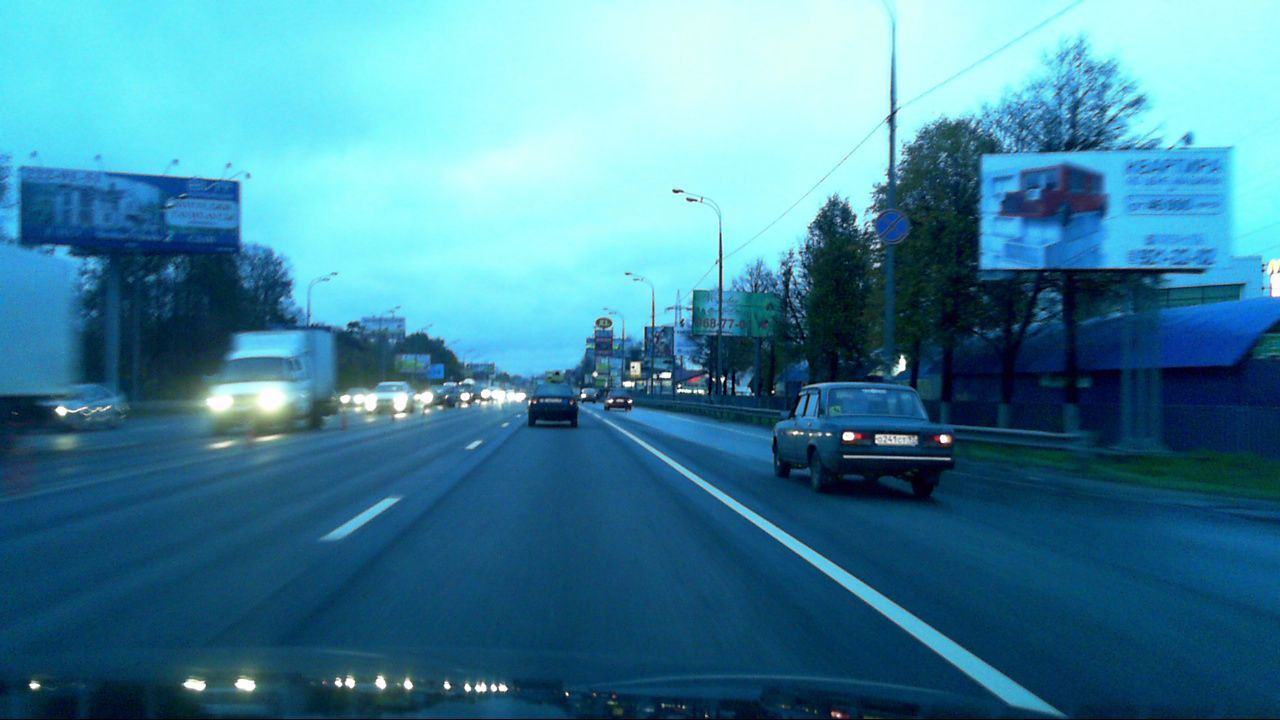No Parking: (874, 209, 909, 245)
